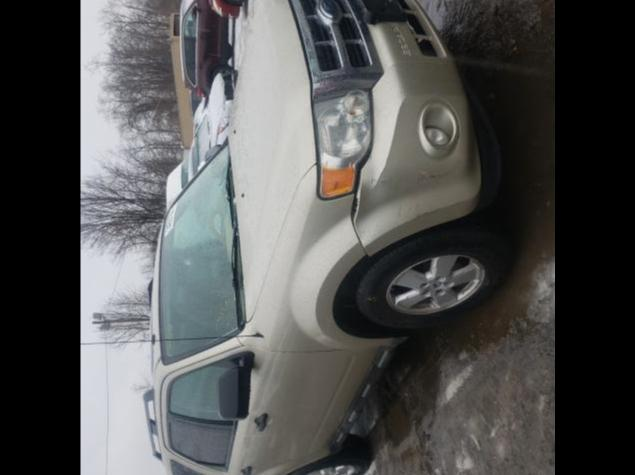Broken part: (348, 85, 375, 257)
Missing part: (361, 0, 404, 16)
Scratch: (412, 167, 452, 189), (366, 169, 392, 191)
